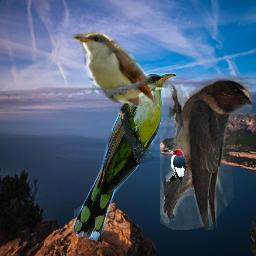Cuckoo: (74, 73, 176, 240), (70, 26, 168, 107)
Swallow: (160, 79, 252, 230)
Woodpecker: (168, 148, 187, 185)
